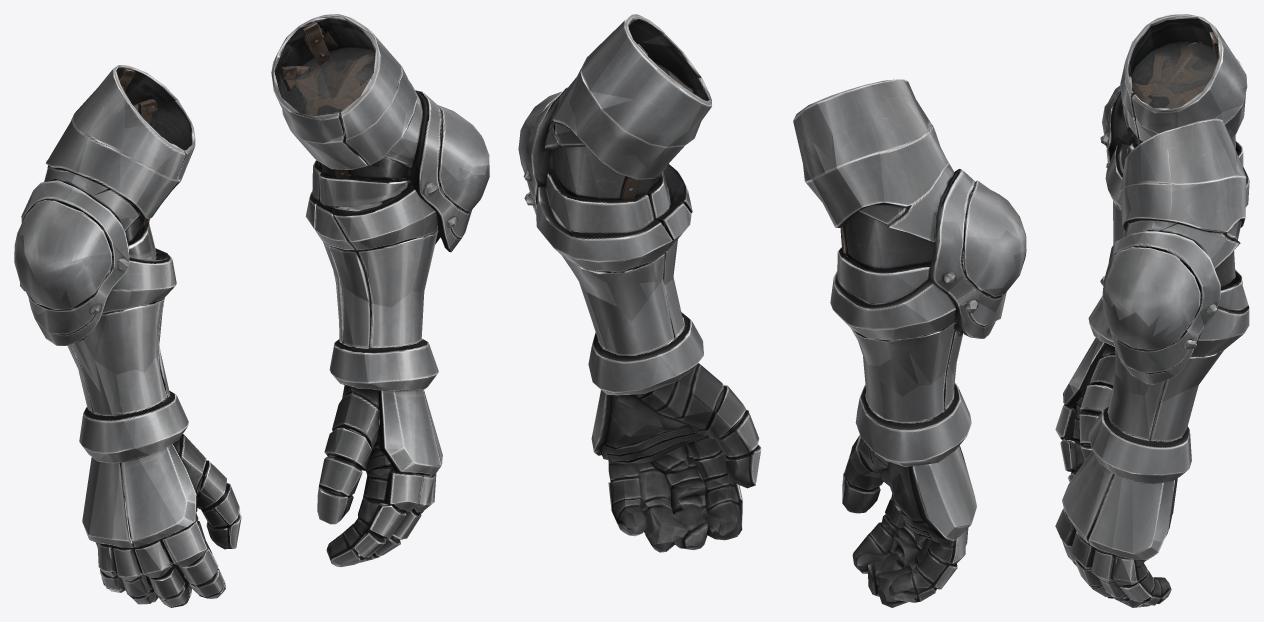
Rendered from Meshy_AI_historical_arm_harnes_1105044029_texture.glb.
3 views of the same model, side by side, from view 1: azimuth 30°, elevation 25°; view 2: azimuth 150°, elevation 25°; view 3: azimuth 270°, elevation 25° (orthographic). The views are drawn at different scales.
Visible parts, largest first — view 1: output_unwrapped; view 2: output_unwrapped; view 3: output_unwrapped.
Boxes of the visible parts, x1,y1,x2,y2 form: output_unwrapped: (14,14,489,607); output_unwrapped: (518,14,1026,607); output_unwrapped: (1055,14,1249,607).
Size of the model in its own units: 1.79 by 1.9 by 0.6855.
1 material, 1 textured.
